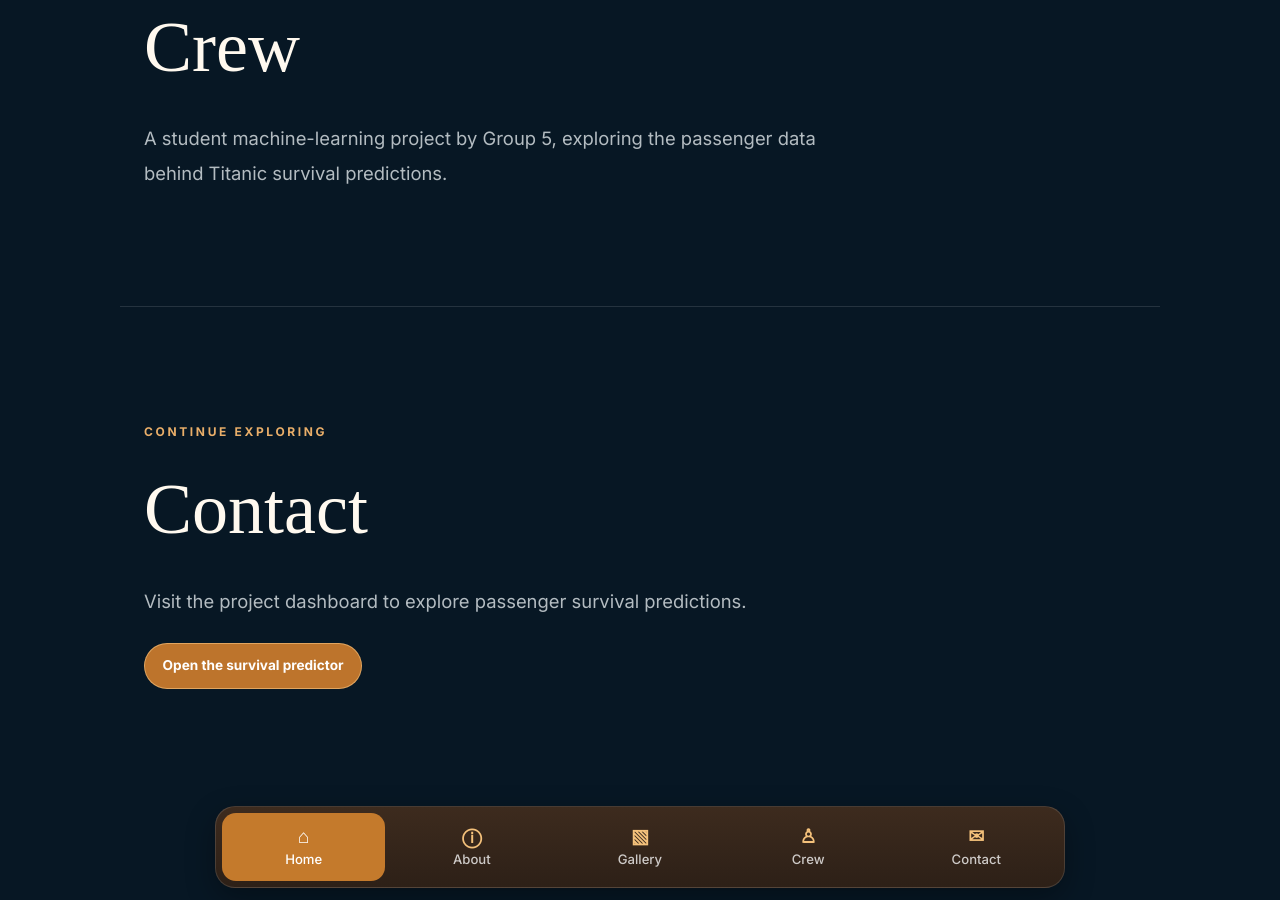
Test: saves the dashboard and displays it in Favorites
(page scrolled)
Step 1. Click the button "Open the survival predictor" → (253, 666), box top-left (144, 643), bottom-right (362, 689)
(page scrolled)
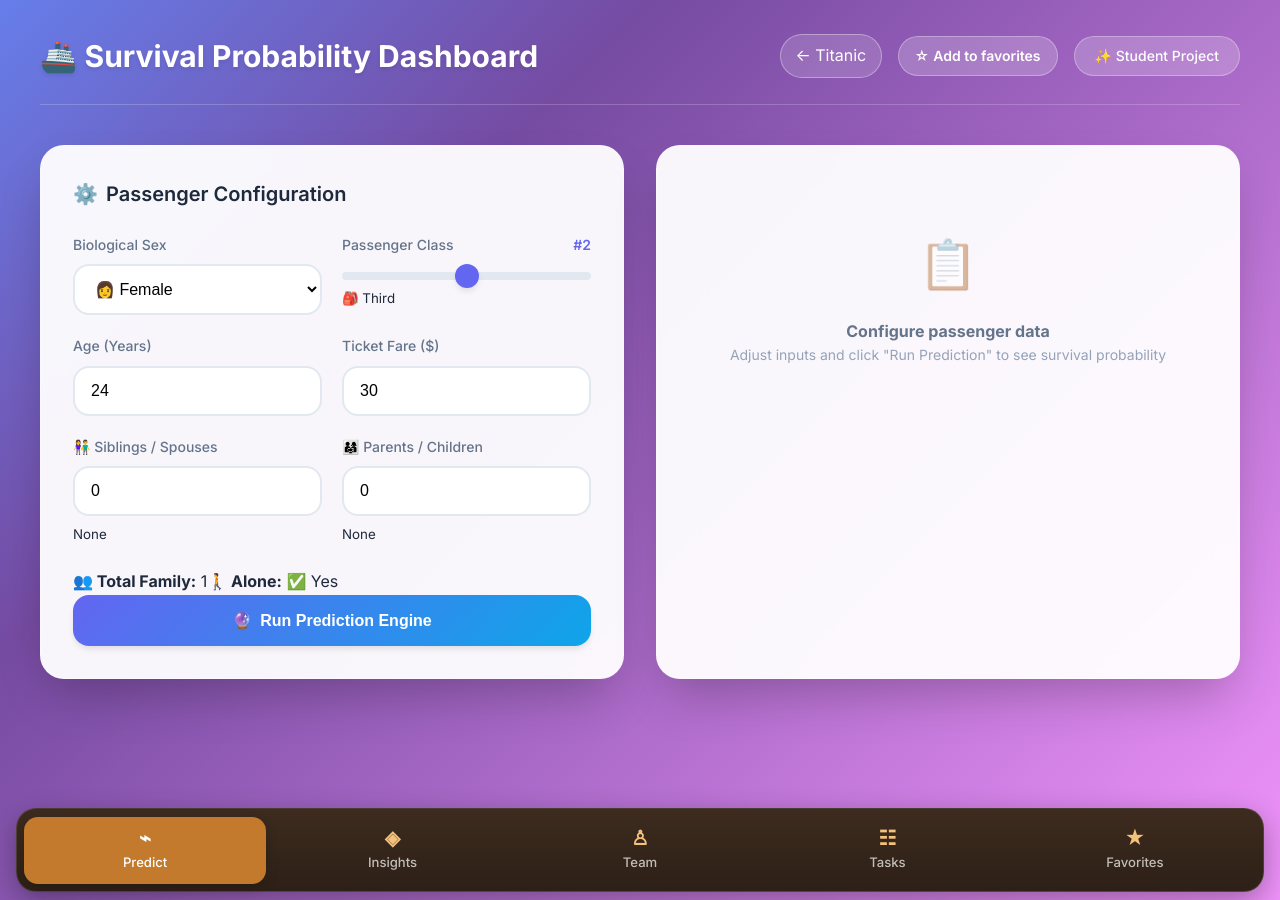
Step 2. Click the button "☆Add to favorites" → (978, 56), box top-left (898, 36), bottom-right (1058, 76)
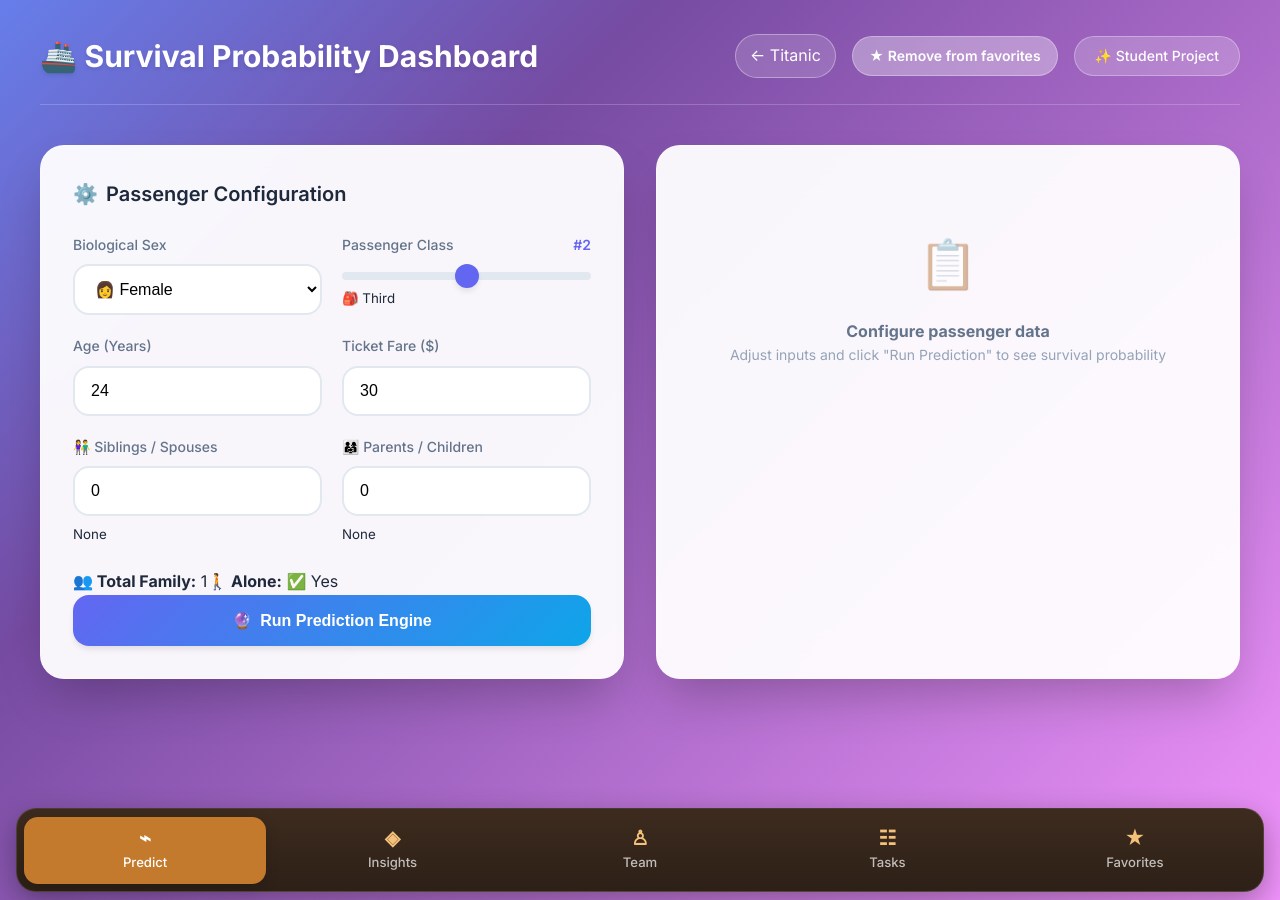
Step 3. Click the button "★ Favorites" → (1135, 850), box top-left (1014, 817), bottom-right (1256, 884)
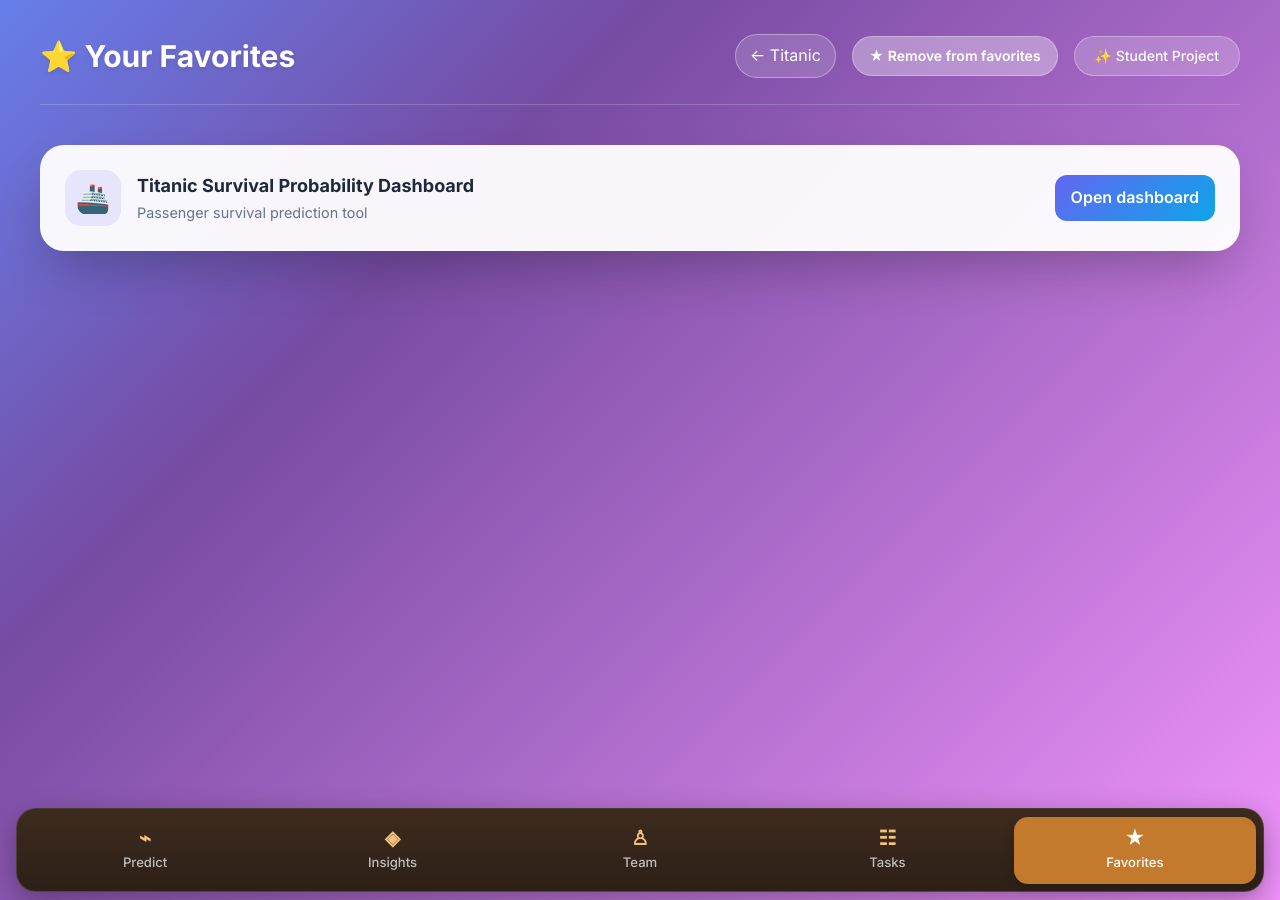
Check: the heading "⭐ Your Favorites" is shown, box top-left (40, 32), bottom-right (295, 80)
Check: the heading "Titanic Survival Probability Dashboard" is shown, box top-left (137, 175), bottom-right (474, 196)
Step 4. Click the button "Open dashboard" → (1135, 198), box top-left (1055, 175), bottom-right (1215, 221)
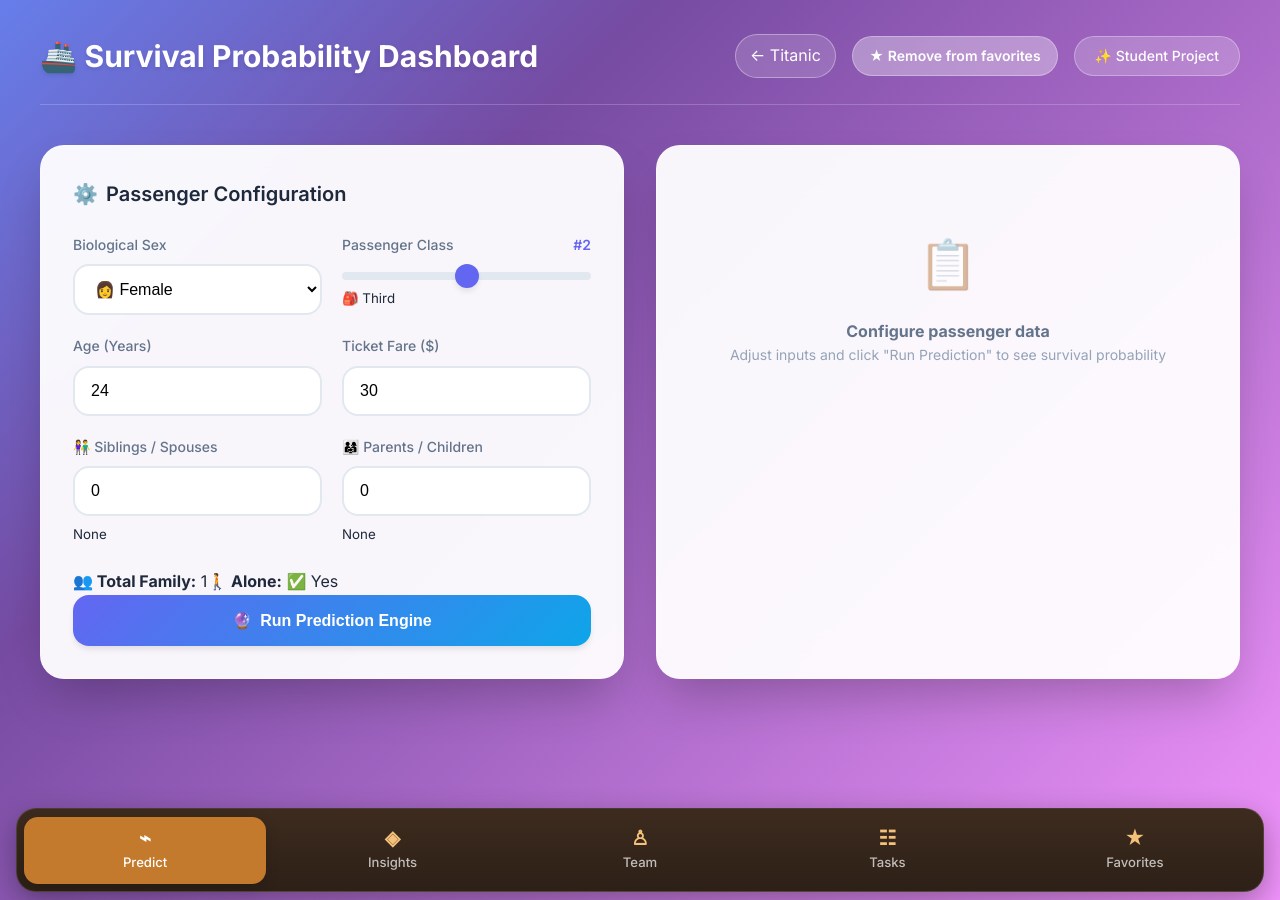
Check: the heading "🚢 Survival Probability Dashboard" is shown, box top-left (40, 32), bottom-right (538, 80)
